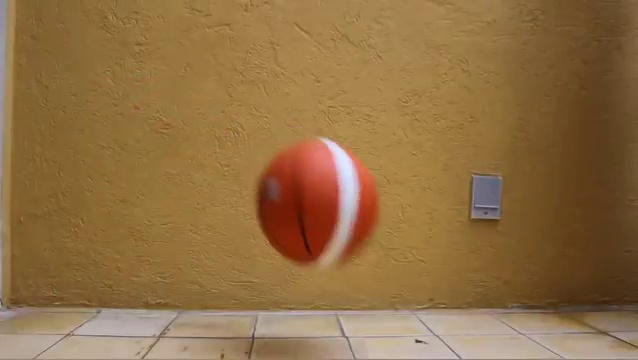ball: (256, 133, 379, 271)
